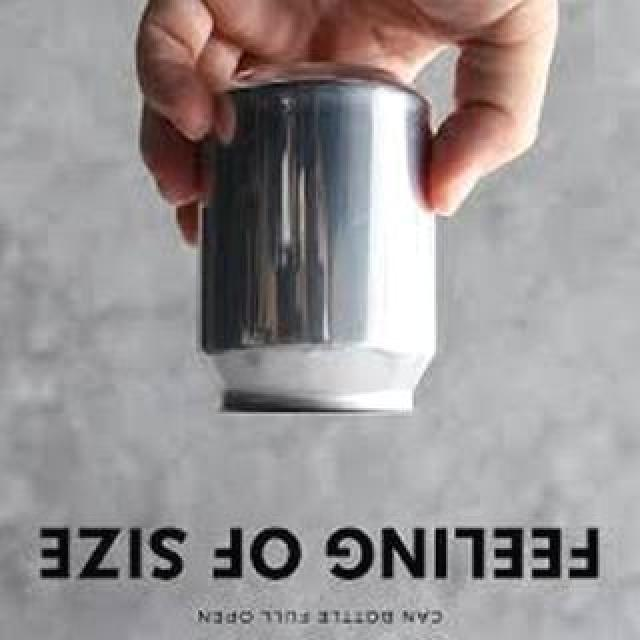Can: (198, 67, 434, 421)
